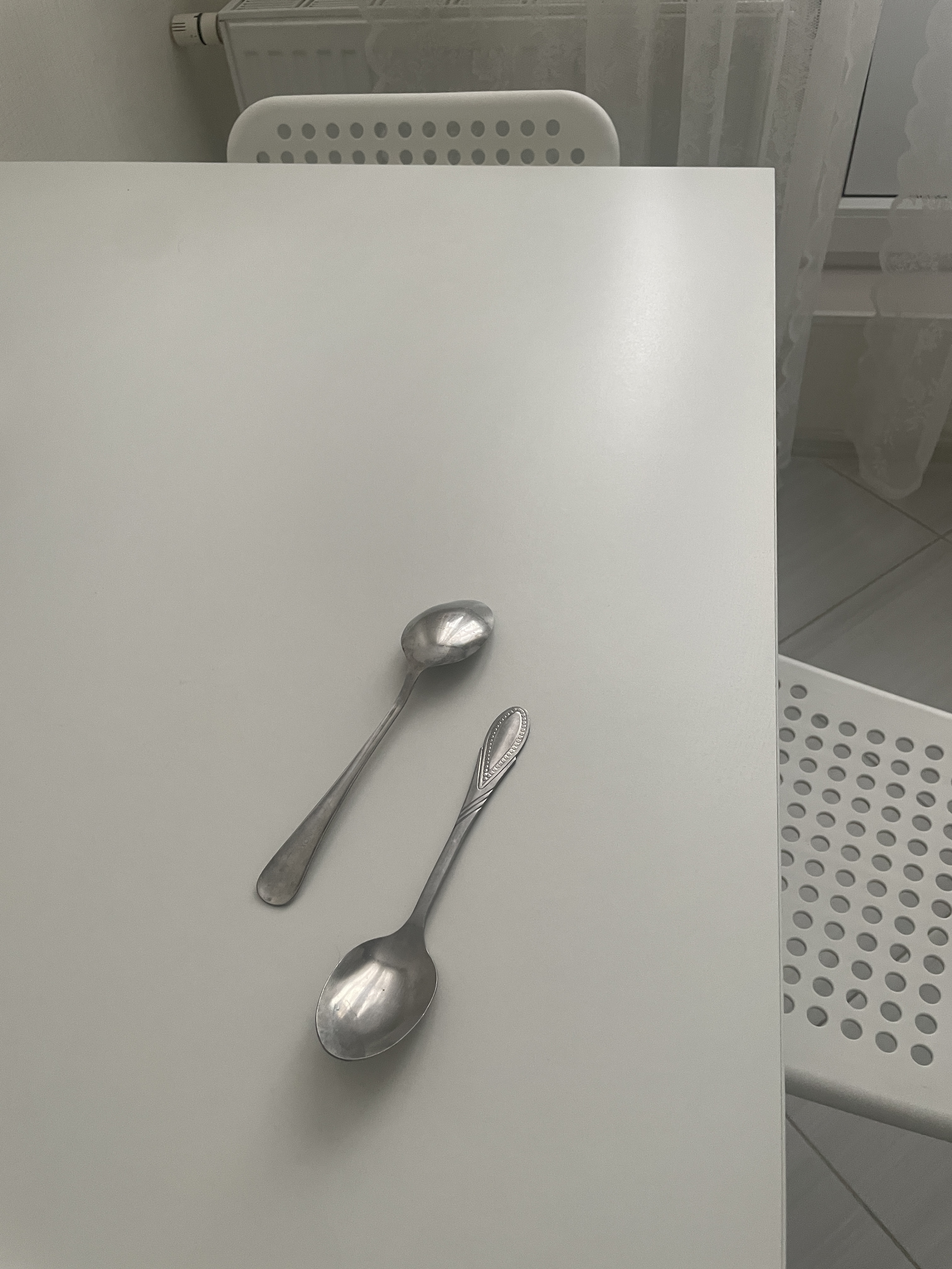spoon: (315, 707, 529, 1060), (257, 600, 494, 906)
